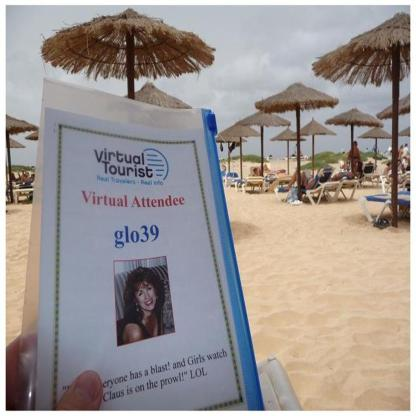face: (137, 283, 156, 311), (355, 144, 358, 149)
